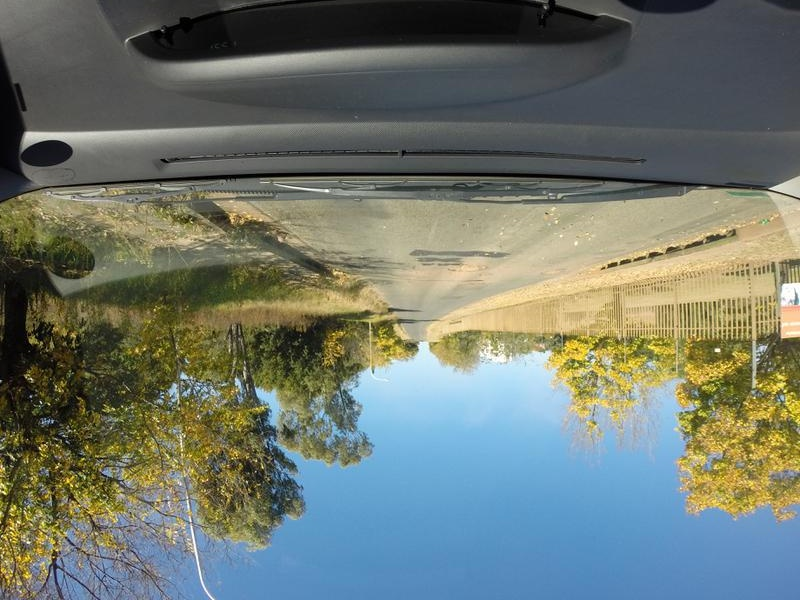pothole: (441, 253, 503, 282)
